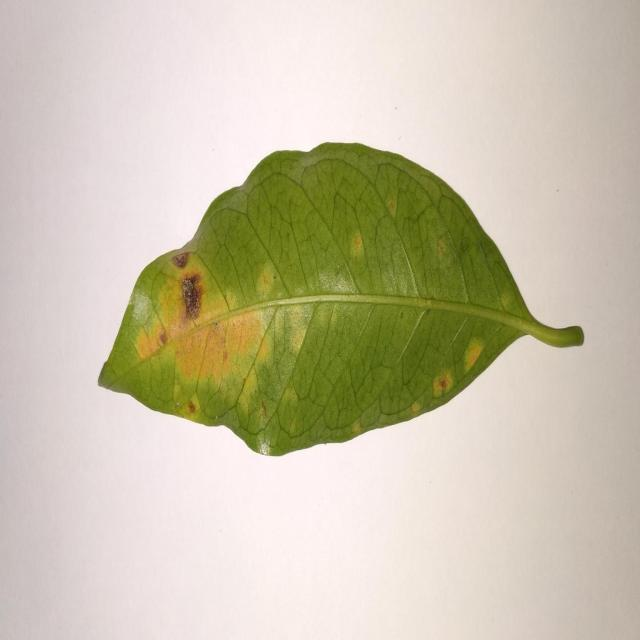rust: (176, 326, 264, 379), (172, 252, 227, 318), (127, 294, 182, 345), (255, 259, 284, 300), (462, 323, 485, 374), (347, 219, 369, 262), (433, 369, 455, 398), (183, 392, 202, 422)
